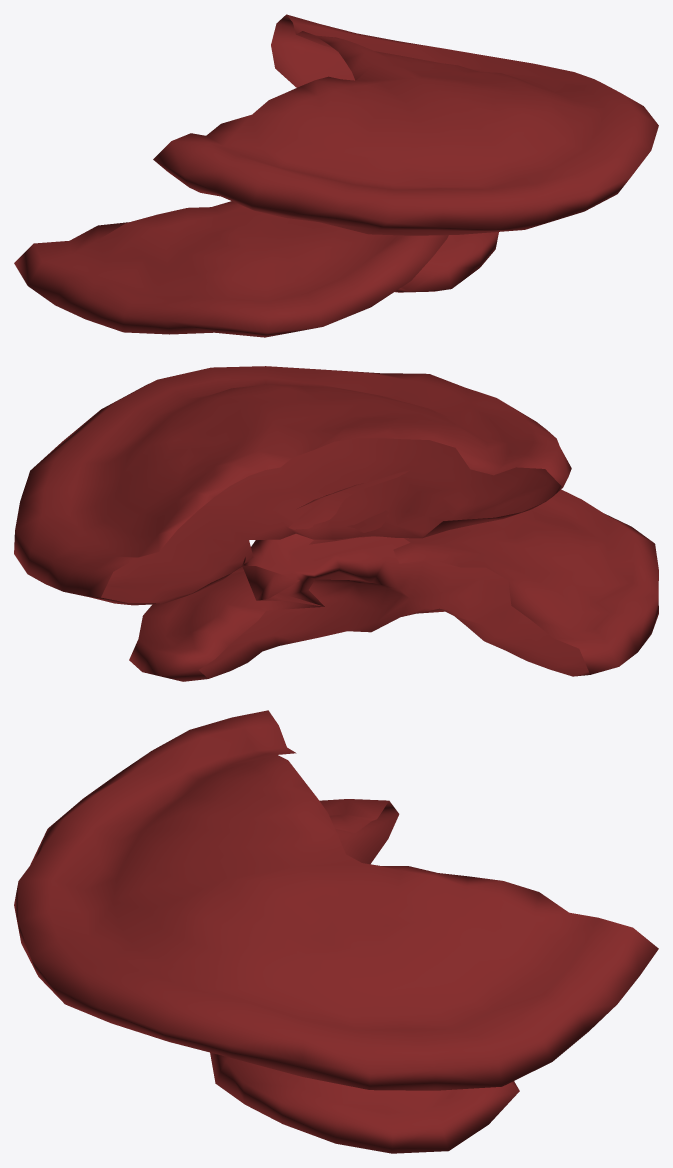
File: Mushroom_Cluster_02.fbx
3 views of the same model, one above another, from view 1: azimuth 30°, elevation 25°; view 2: azimuth 150°, elevation 25°; view 3: azimuth 270°, elevation 25° (orthographic). The views are drawn at different scales.
Parts seen in each view (by area): view 1: Merged_Mushroom_Cluster_04; view 2: Merged_Mushroom_Cluster_04; view 3: Merged_Mushroom_Cluster_04.
Boxes of the visible parts, x1,y1,x2,y2 form: Merged_Mushroom_Cluster_04: (14, 14, 658, 337); Merged_Mushroom_Cluster_04: (14, 366, 658, 681); Merged_Mushroom_Cluster_04: (14, 710, 658, 1153).
Bounding box in the file's own units: 41.89 × 15.86 × 34.88.
